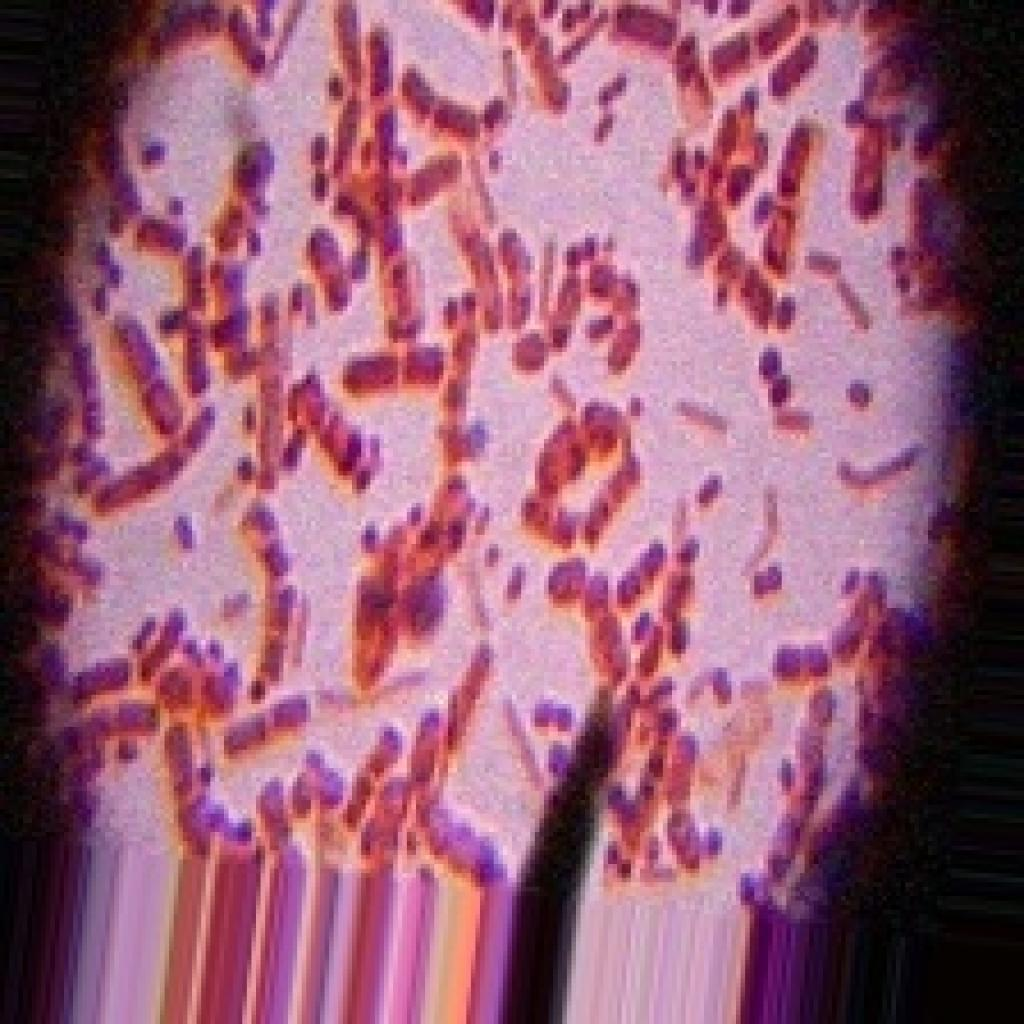Rodbacteria: (0, 0, 1015, 1019)
